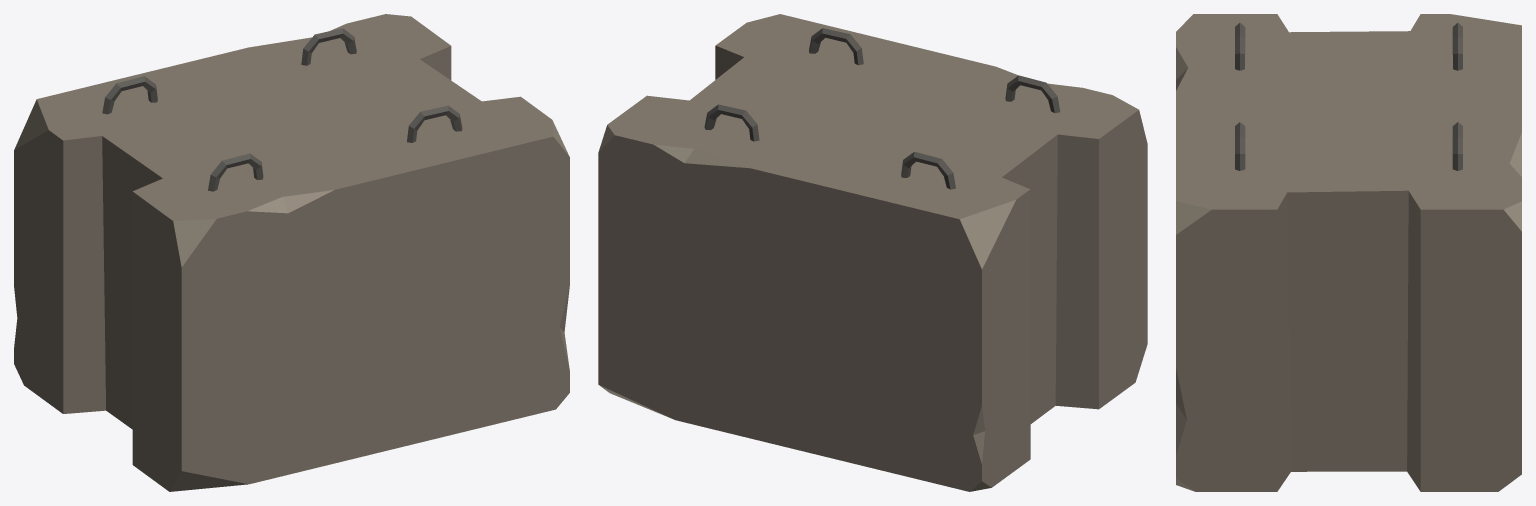
File: SM_Prop_Concrete_Slab_03.glb
3 views of the same model, side by side, from view 1: azimuth 30°, elevation 25°; view 2: azimuth 150°, elevation 25°; view 3: azimuth 270°, elevation 25° (orthographic). The views are drawn at different scales.
Parts seen in each view (by area): view 1: SM_Prop_Concrete_Slab_03; view 2: SM_Prop_Concrete_Slab_03; view 3: SM_Prop_Concrete_Slab_03.
Part boxes in pixels (x1=…): SM_Prop_Concrete_Slab_03: x1=14, y1=14, x2=569, y2=491; SM_Prop_Concrete_Slab_03: x1=598, y1=14, x2=1147, y2=491; SM_Prop_Concrete_Slab_03: x1=1176, y1=14, x2=1521, y2=491.
Bounding box in the file's own units: 1.48 × 1.1 × 1.11.
1 material, 1 textured.
